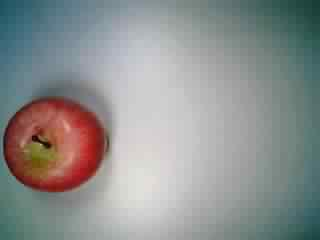apple: (2, 96, 108, 200)
